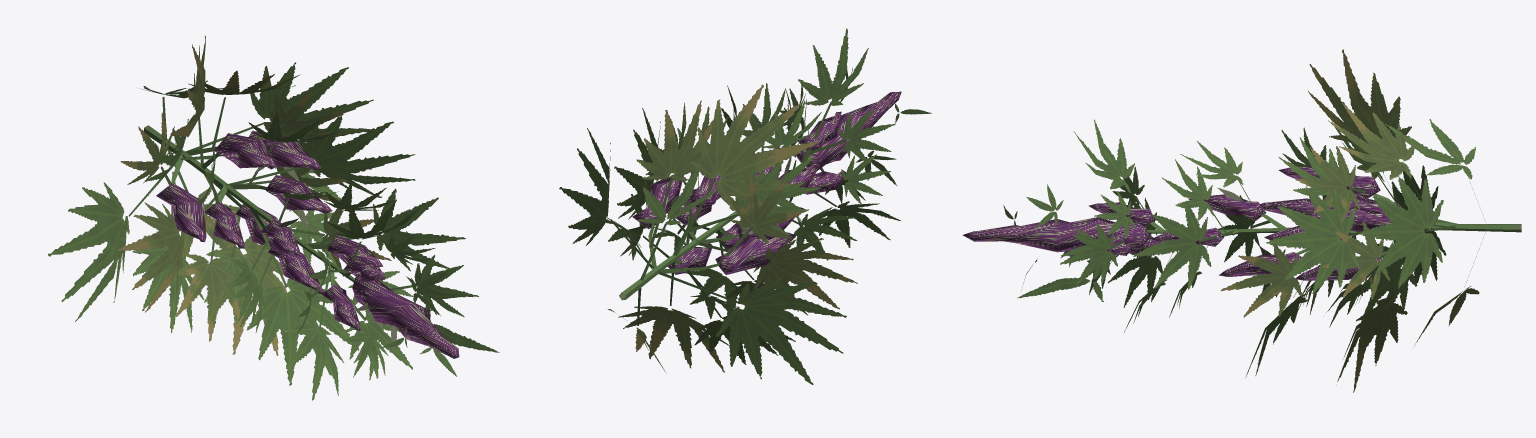
Rendered from p_purple_landrace_ripe_c0_cards.obj.
3 renders of one model, left to right at view 1: azimuth 30°, elevation 25°; view 2: azimuth 150°, elevation 25°; view 3: azimuth 270°, elevation 25°, orthographic. The views are drawn at different scales.
Bounding box in the file's own units: 1.54 × 1.46 × 2.13.
Materials: 1 (1 with a texture image).
